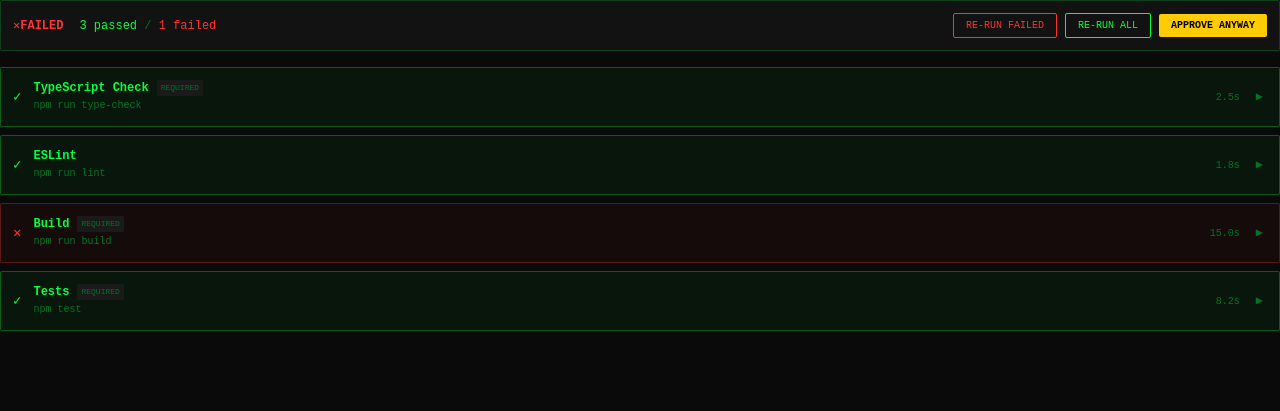
Test: VerificationPanel › Expandable Output › expands to show full output when clicked
Step 1. Click the button with test id "expand-output-button" next to "2.5s" → (1259, 97), box [1252,85,1267,109]
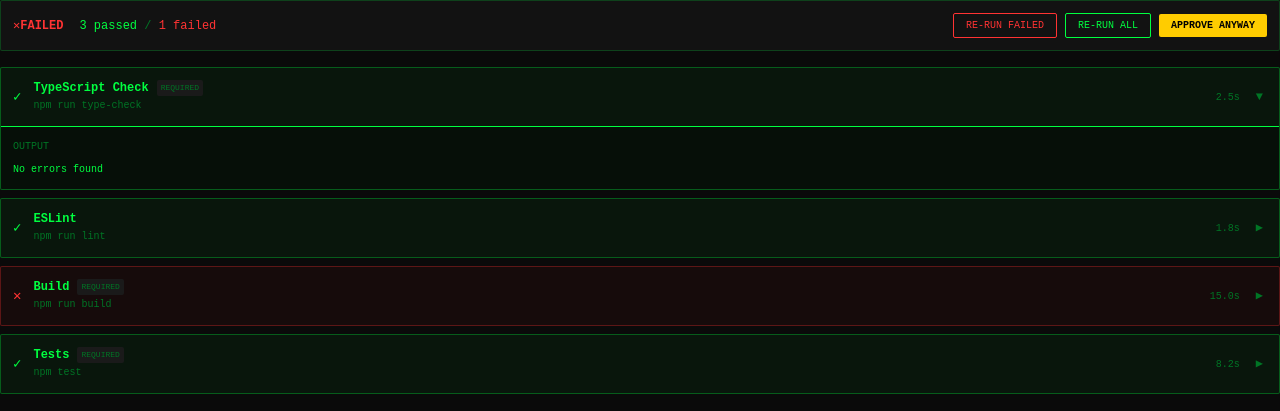
Now the text "No errors found" is shown, box [13,164,103,175]
